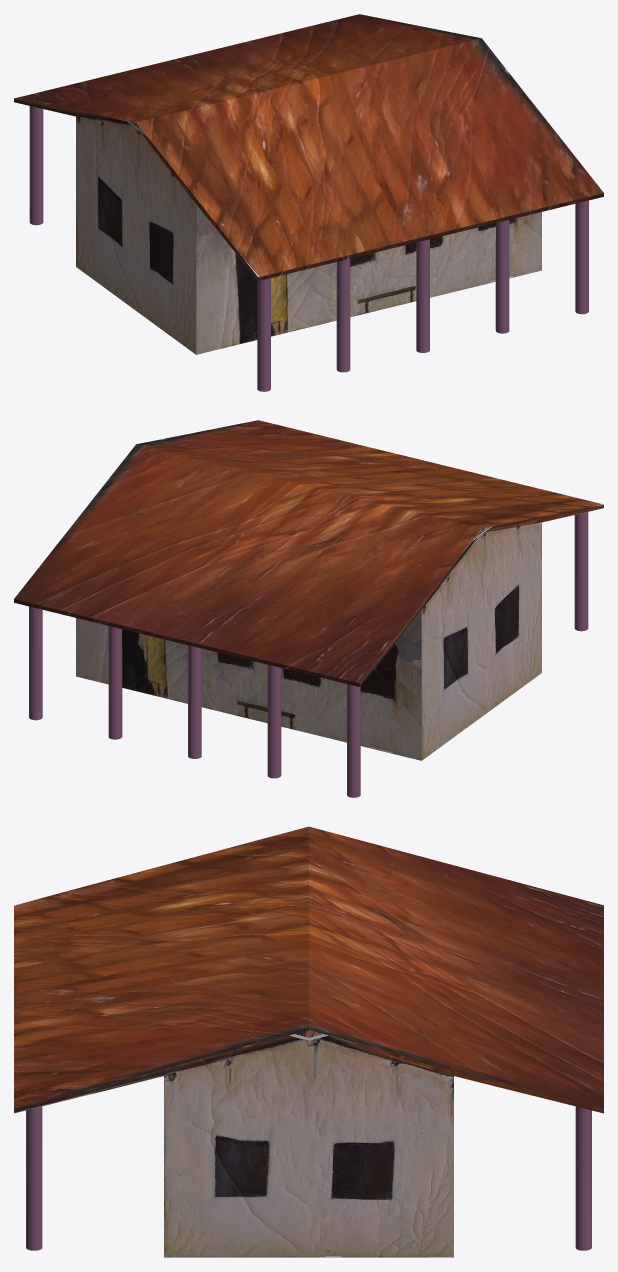
The model's file is modelo-teste.glb.
The picture shows the model from 3 angles, top to bottom: view 1: azimuth 30°, elevation 25°; view 2: azimuth 150°, elevation 25°; view 3: azimuth 270°, elevation 25°; orthographic projection. The views are drawn at different scales.
Parts seen in each view (by area): view 1: Cube, Cube.001; view 2: Cube, Cube.001; view 3: Cube, Cube.001.
Boxes of the visible parts, bbox=[...] form: Cube: bbox=[14, 14, 603, 354]; Cube.001: bbox=[29, 106, 588, 391]; Cube: bbox=[14, 420, 603, 760]; Cube.001: bbox=[29, 512, 588, 797]; Cube: bbox=[14, 826, 603, 1257]; Cube.001: bbox=[26, 1106, 591, 1250].
Bounding box in the file's own units: 11.11 × 5.79 × 13.6.
Materials: 2 (1 with a texture image).
